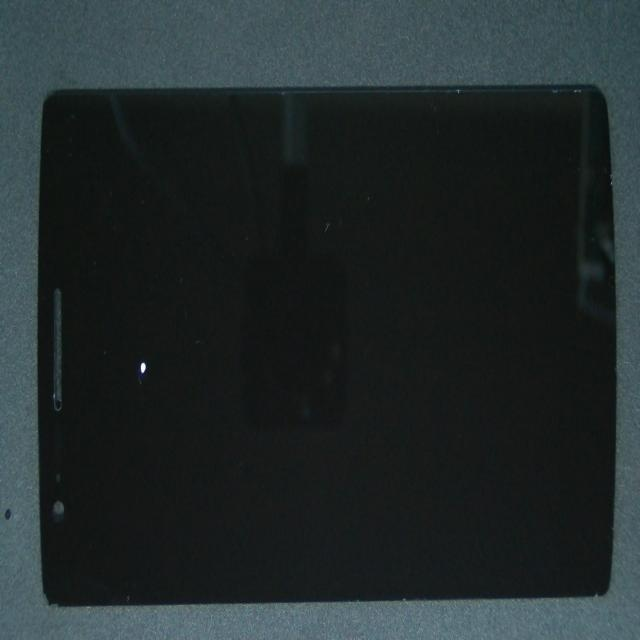stain: (69, 149, 199, 507)
